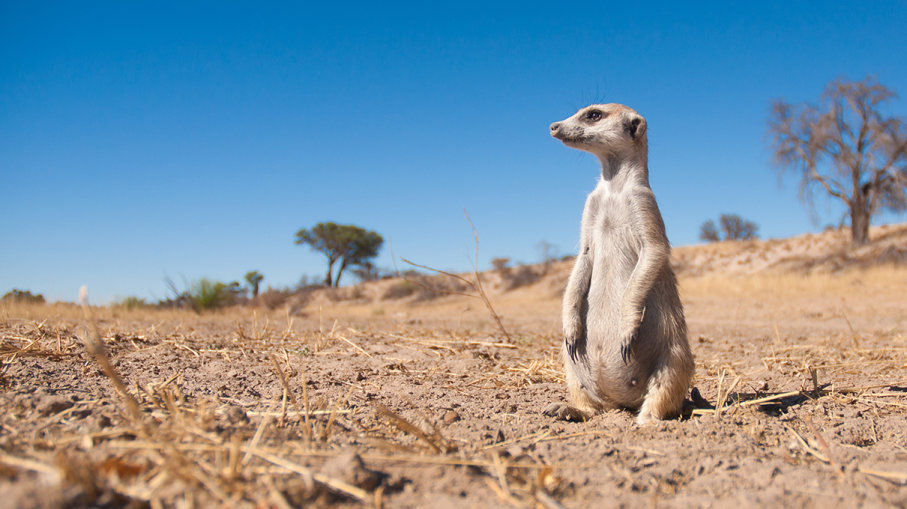meerkat: (527, 76, 741, 427)
